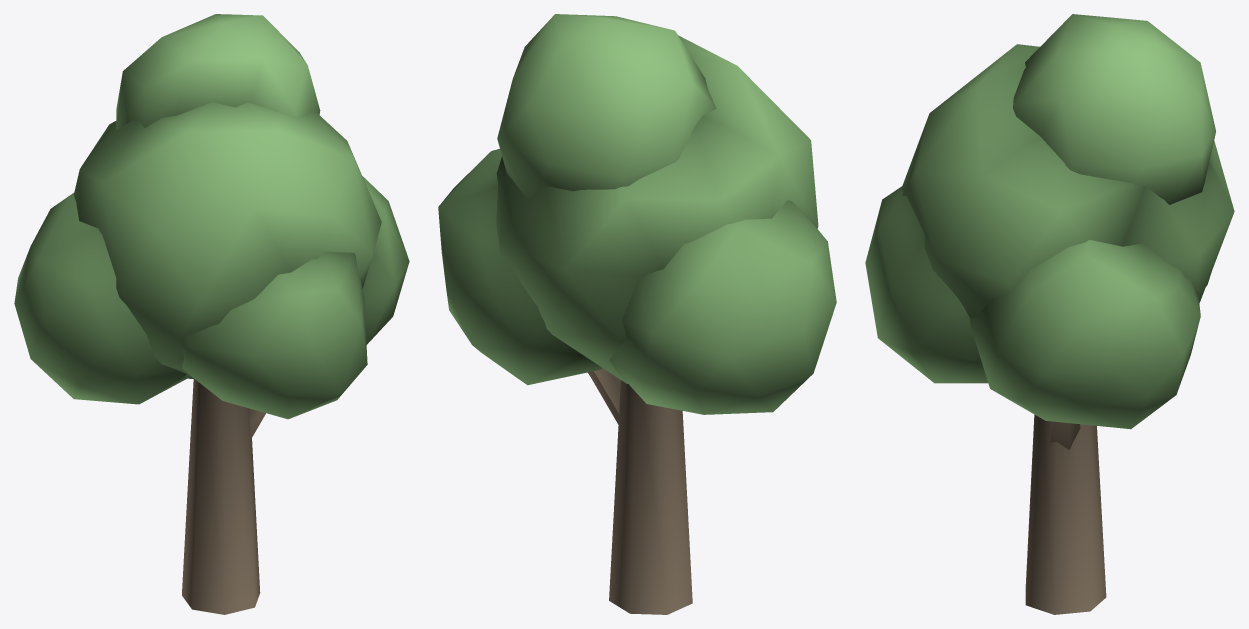
The model's file is prop_tree.glb.
3 renders of one model, left to right at view 1: azimuth 30°, elevation 25°; view 2: azimuth 150°, elevation 25°; view 3: azimuth 270°, elevation 25°, orthographic. The views are drawn at different scales.
Visible parts, largest first — view 1: prop_tree; view 2: prop_tree; view 3: prop_tree.
Boxes of the visible parts, bbox=[...] form: prop_tree: bbox=[14, 14, 409, 614]; prop_tree: bbox=[438, 14, 836, 614]; prop_tree: bbox=[865, 14, 1234, 614].
Bounding box in the file's own units: 0.9141 × 1.36 × 0.7813.
